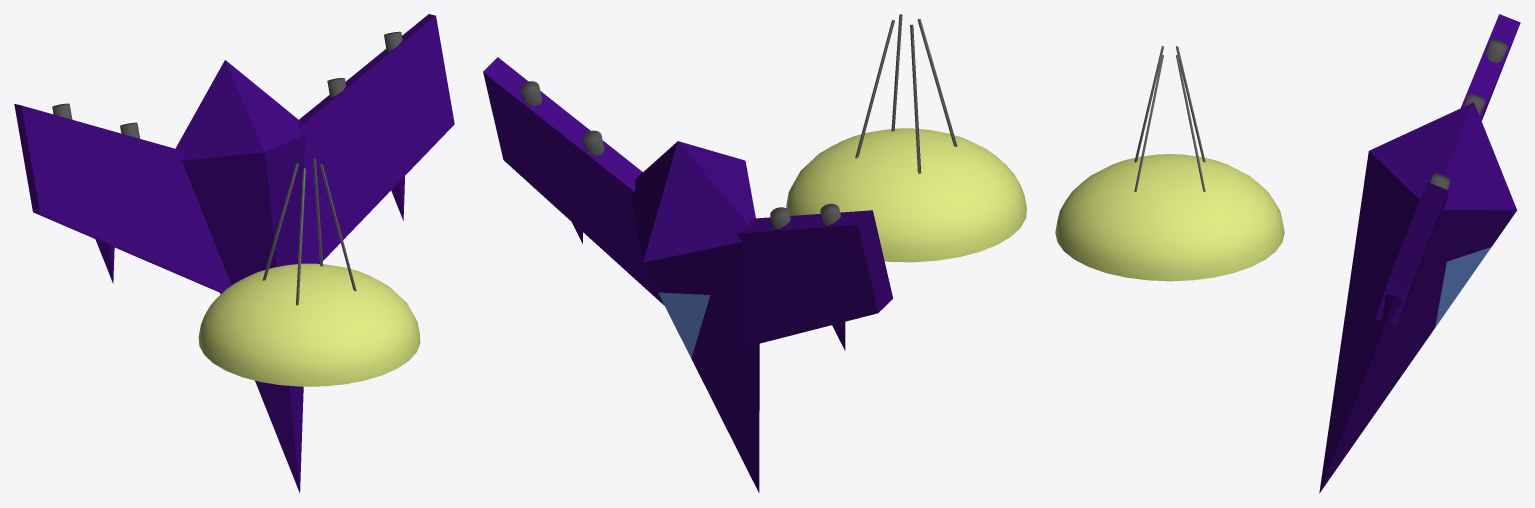
File: GMAP_231_Final_Level_1_004.fbx
The picture shows the model from 3 angles, left to right: view 1: azimuth 30°, elevation 25°; view 2: azimuth 150°, elevation 25°; view 3: azimuth 270°, elevation 25°; orthographic projection. The views are drawn at different scales.
Parts seen in each view (by area): view 1: wrecked_ship, island, pillars.004; view 2: wrecked_ship, island, pillars.002; view 3: wrecked_ship, island.
Part boxes in pixels (x1,y1,x2,y2): wrecked_ship: (14, 14, 454, 492); island: (198, 263, 420, 386); pillars.004: (296, 168, 305, 305); wrecked_ship: (483, 57, 892, 492); island: (786, 128, 1026, 262); pillars.002: (910, 24, 921, 173); wrecked_ship: (1319, 14, 1520, 493); island: (1055, 154, 1284, 281).
Size of what is drawn, in the model's own units: 19888 by 19783 by 20279.
